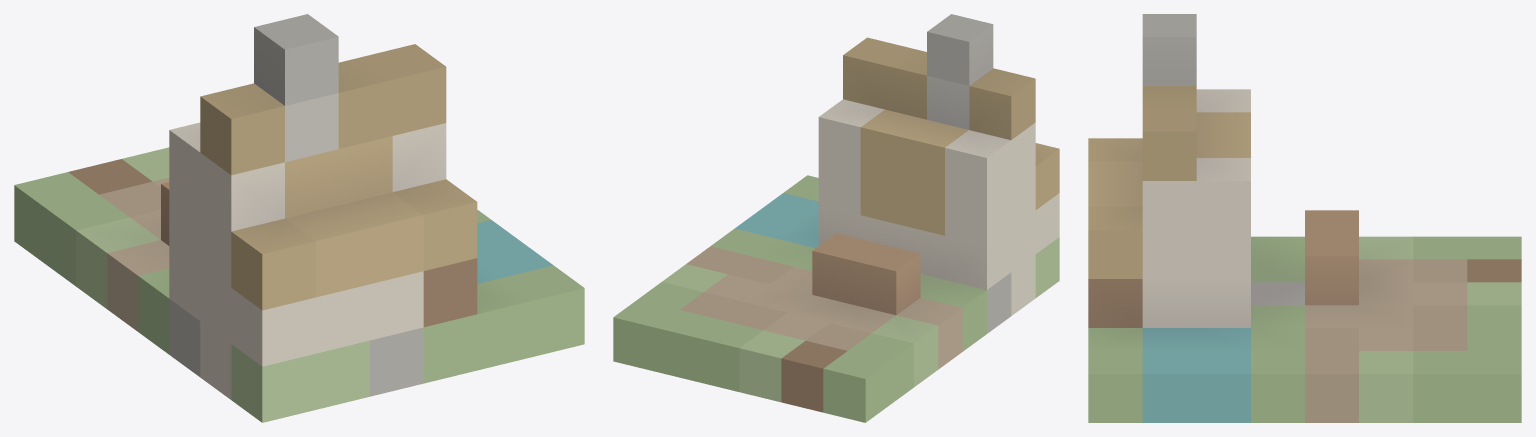
Rendered from hemp_farm.lite.glb.
3 views of the same model, side by side, from view 1: azimuth 30°, elevation 25°; view 2: azimuth 150°, elevation 25°; view 3: azimuth 270°, elevation 25° (orthographic). The views are drawn at different scales.
Parts seen in each view (by area): view 1: hemp_farm; view 2: hemp_farm; view 3: hemp_farm.
Part boxes in pixels (left/top/right/bottom): hemp_farm: left=14, top=14, right=584, bottom=422; hemp_farm: left=613, top=14, right=1059, bottom=422; hemp_farm: left=1088, top=14, right=1521, bottom=422.
Size of the model in its own units: 3 by 3 by 4.
